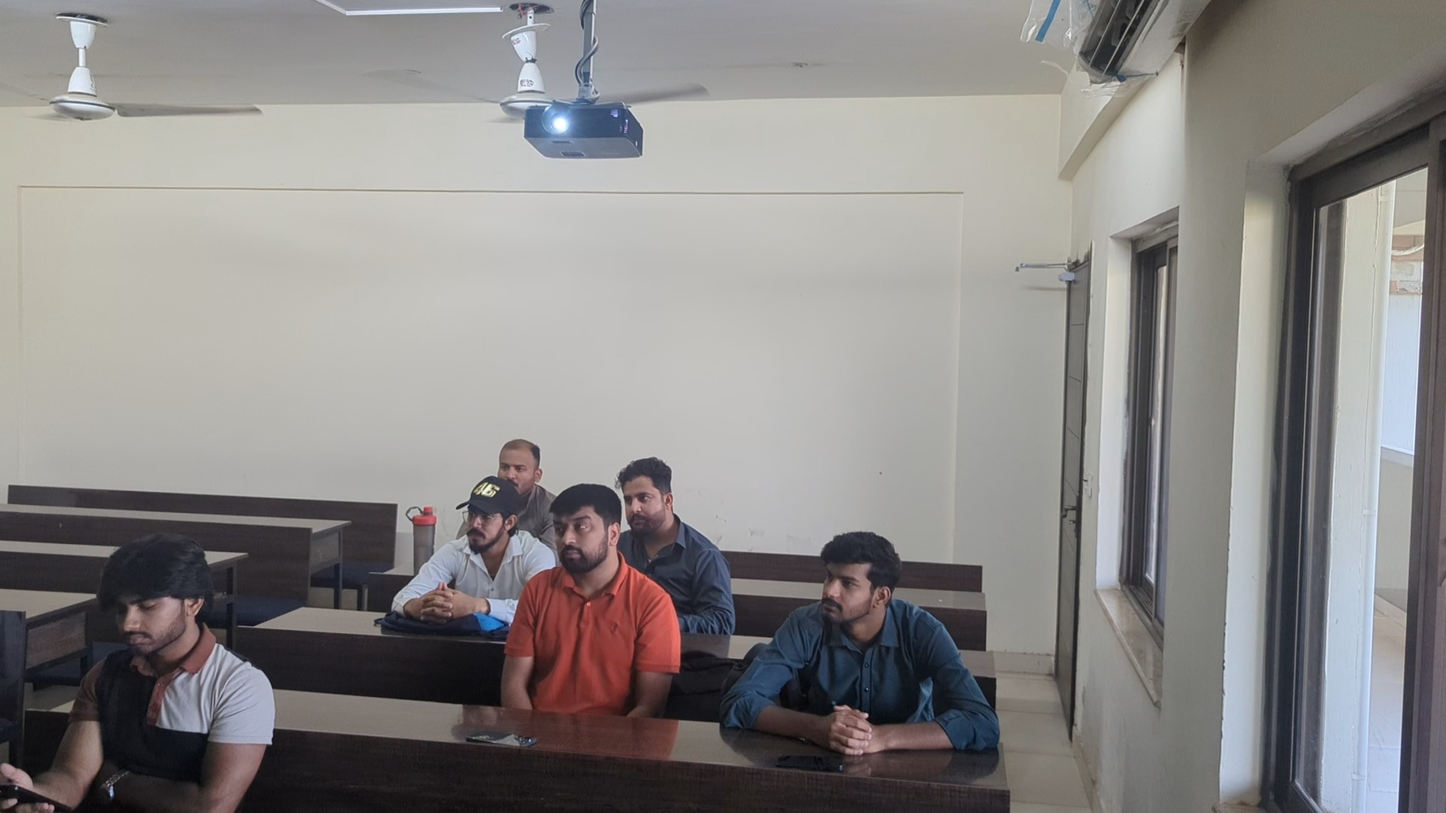look_forward: (720, 529, 993, 759), (505, 480, 676, 714), (616, 455, 728, 617), (396, 476, 521, 621), (497, 433, 547, 483)
using_device: (0, 533, 274, 813)
